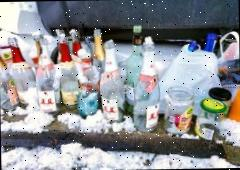glass: (1, 22, 234, 148)
